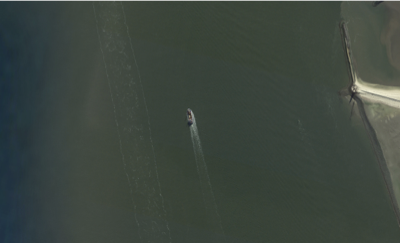boat: (187, 108, 194, 123)
